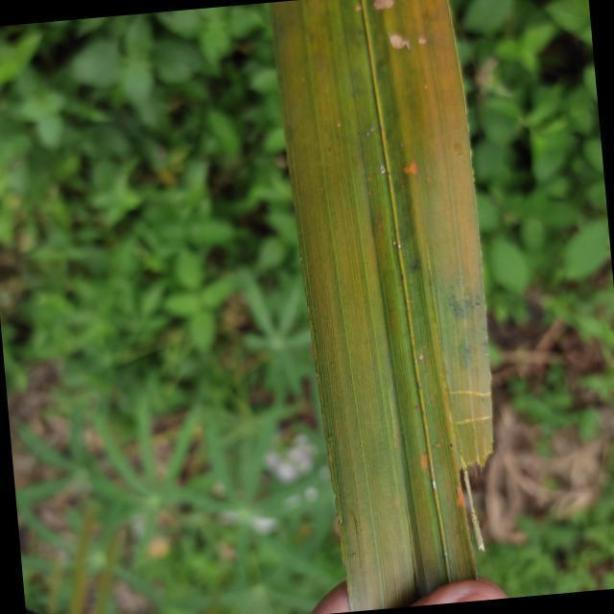Megnesium: (266, 0, 500, 614)
